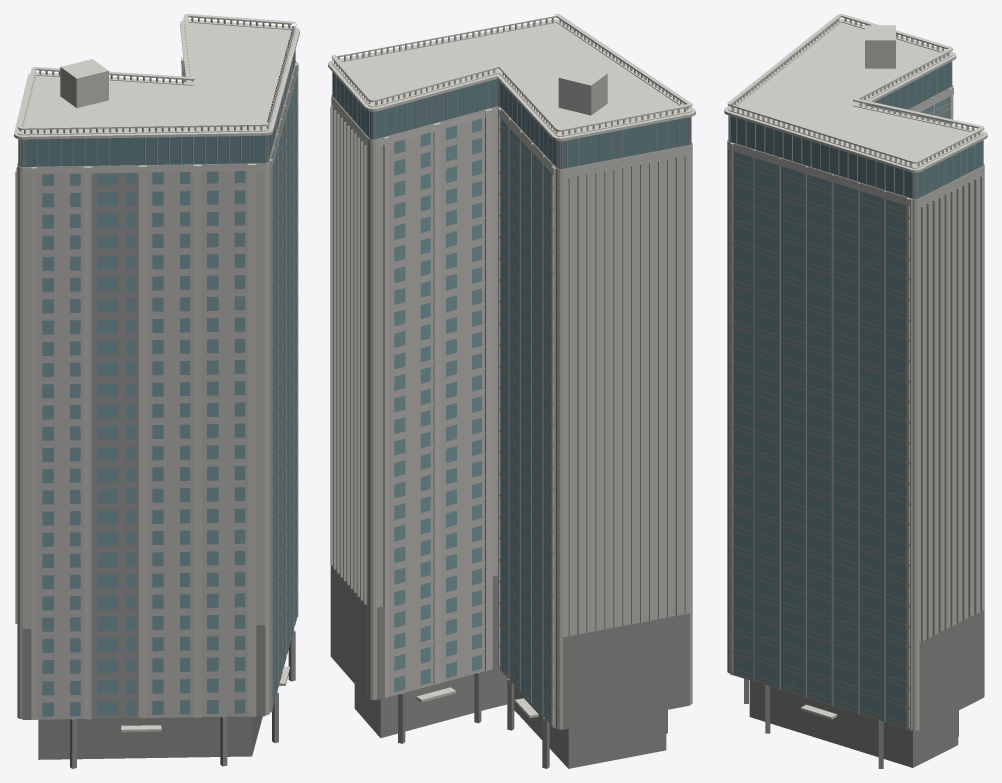
File: maple-xi-211.glb
The picture shows the model from 3 angles, left to right: view 1: azimuth 30°, elevation 25°; view 2: azimuth 150°, elevation 25°; view 3: azimuth 270°, elevation 25°; orthographic projection. The views are drawn at different scales.
Visible parts, largest first — view 1: maple-xi-211; view 2: maple-xi-211; view 3: maple-xi-211.
Part boxes in pixels (x1,y1,x2,y2): maple-xi-211: (14,14,299,768); maple-xi-211: (328,14,695,768); maple-xi-211: (724,14,987,768).
Size of the model in its own units: 48.11 by 94.56 by 35.43.
